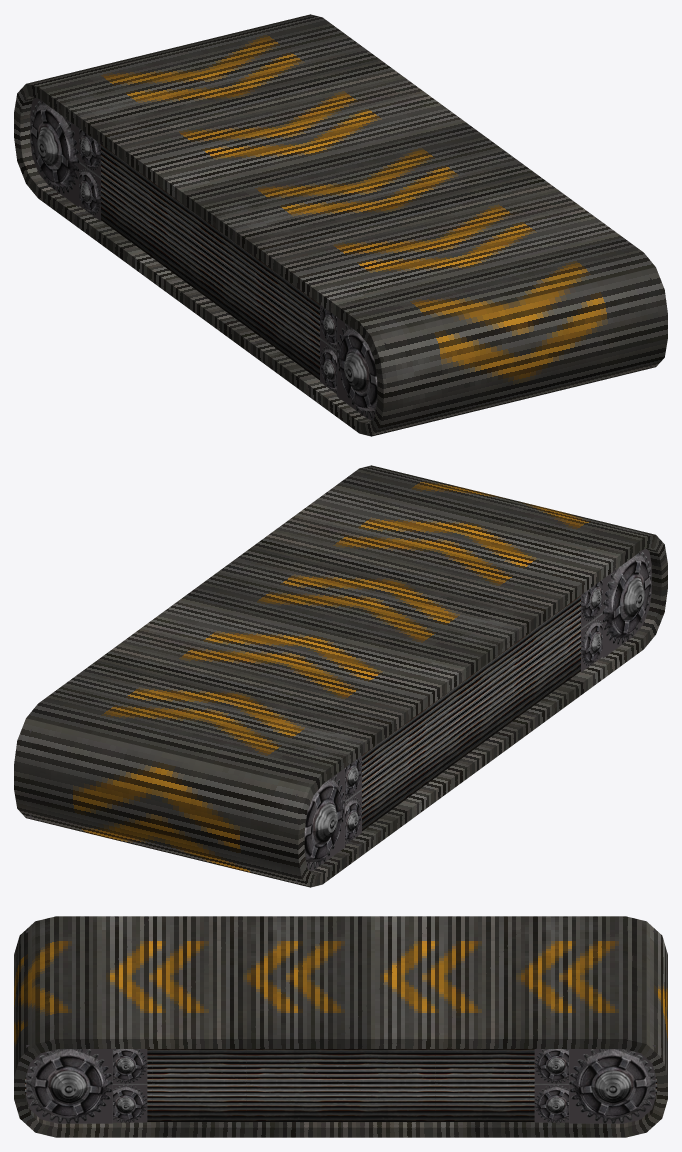
File: conveyor_belt.fbx
The picture shows the model from 3 angles, top to bottom: view 1: azimuth 30°, elevation 25°; view 2: azimuth 150°, elevation 25°; view 3: azimuth 270°, elevation 25°; orthographic projection. The views are drawn at different scales.
Parts seen in each view (by area): view 1: Conveyor Belt; view 2: Conveyor Belt; view 3: Conveyor Belt.
Part boxes in pixels (left/top/right/bottom): Conveyor Belt: left=14, top=14, right=667, bottom=436; Conveyor Belt: left=14, top=465, right=667, bottom=887; Conveyor Belt: left=14, top=916, right=667, bottom=1137.
Size of the model in its own units: 4.09 by 1.5 by 9.
